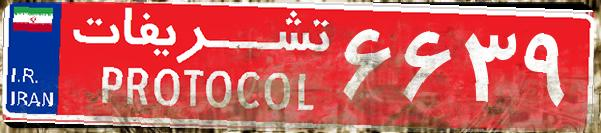3: (460, 20, 520, 115)
6: (340, 20, 400, 115), (400, 20, 460, 115)
9: (520, 20, 580, 115)
تشریفات: (60, 8, 340, 125)
